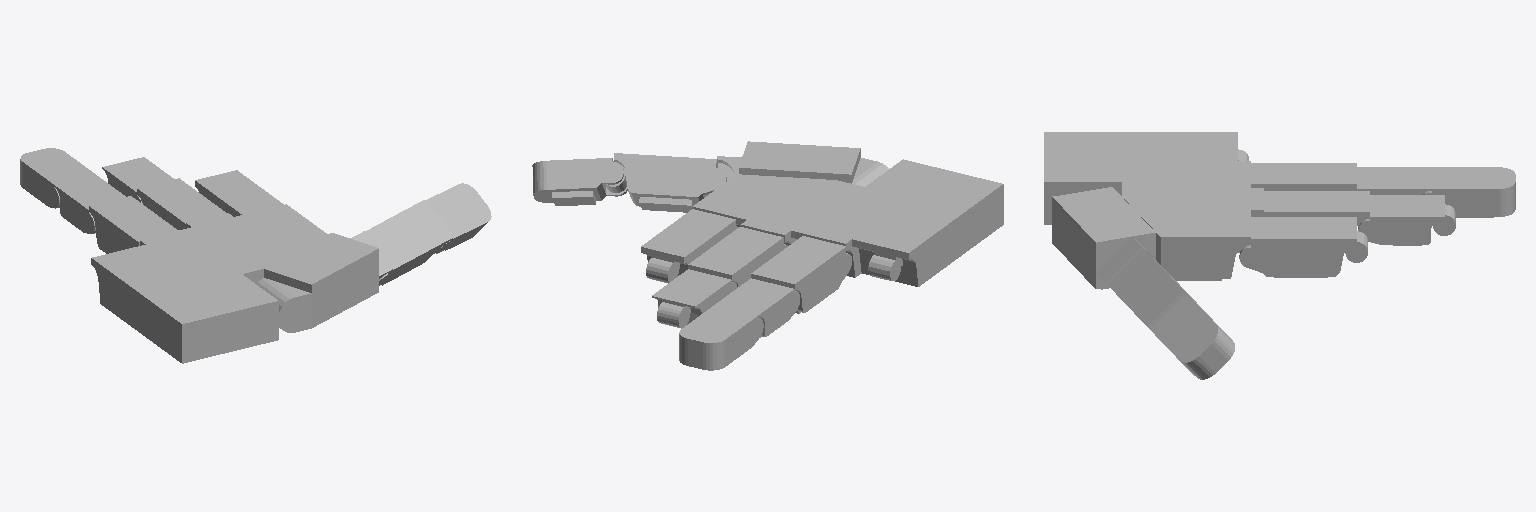
robot.urdf — f_tac_hand:
<?xml version="1.0"?>
<!-- This URDF was automatically created by SolidWorks to URDF Exporter! Originally created by
[author] ([email redacted])
     Commit Version: 1.6.0-1-g15f4949  Build Version: 1.6.7594.29634
     For more information, please see http://wiki.ros.org/sw_urdf_exporter -->
<robot
  name="f_tac_hand">
  <link name="base_link">
    <inertial>
      <origin
        xyz="0 0 0"
        rpy="0 0 0" />
      <mass
        value="0.10701" />
      <inertia
        ixx="4.0664E-05"
        ixy="6.4038E-08"
        ixz="1.9177E-06"
        iyy="5.6479E-05"
        iyz="7.7345E-07"
        izz="2.2587E-05" />
    </inertial>
    <visual>
      <origin
        xyz="0 0 0"
        rpy="0 0 0" />
      <geometry>
        <mesh
          filename="../meshes/base_link.obj" />
      </geometry>
      <material
        name="">
        <color
          rgba="0.75294 0.75294 0.75294 1" />
      </material>
    </visual>
    <collision>
      <origin
        xyz="0 0 0"
        rpy="0 0 0" />
      <geometry>
        <mesh
          filename="../meshes/base_link.obj" />
      </geometry>
    </collision>
  </link>
  <link
    name="thumb_1">
    <inertial>
      <origin
        xyz="0.0213809512788237 0.00830288099446848 -0.0368934211825852"
        rpy="0 0 0" />
      <mass
        value="0.0302068698189258" />
      <inertia
        ixx="4.47273437130782E-06"
        ixy="-2.41343638990869E-06"
        ixz="-2.18553315619696E-06"
        iyy="9.08198924826877E-06"
        iyz="-9.32985999670422E-07"
        izz="8.77443016411273E-06" />
    </inertial>
    <visual>
      <origin
        xyz="0 0 0"
        rpy="0 0 0" />
      <geometry>
        <mesh
          filename="../meshes/thumb_1.obj" />
      </geometry>
      <material
        name="">
        <color
          rgba="0.752941176470588 0.752941176470588 0.752941176470588 1" />
      </material>
    </visual>
    <collision>
      <origin
        xyz="0 0 0"
        rpy="0 0 0" />
      <geometry>
        <mesh
          filename="../meshes/thumb_1.obj" />
      </geometry>
    </collision>
  </link>
  <joint
    name="thumb_1"
    type="revolute">
    <origin
      xyz="0.0096545 -0.041173 0.026086"
      rpy="-1.5708 -0.41641 0" />
    <parent
      link="base_link" />
    <child
      link="thumb_1" />
    <axis
      xyz="0 0 1" />
    <limit
      lower="0"
      upper="1.57"
      effort="0"
      velocity="0" />
  </joint>
  <link
    name="thumb_2">
    <inertial>
      <origin
        xyz="0.0206182940275113 -0.0003046673401641 2.53574938824386E-13"
        rpy="0 0 0" />
      <mass
        value="0.012221479074921" />
      <inertia
        ixx="6.83102068665418E-07"
        ixy="-2.316217085618E-08"
        ixz="-3.53904923741628E-18"
        iyy="1.86039399915805E-06"
        iyz="1.24884420160806E-19"
        izz="1.76124570189393E-06" />
    </inertial>
    <visual>
      <origin
        xyz="0 0 0"
        rpy="0 0 0" />
      <geometry>
        <mesh
          filename="../meshes/thumb_2.obj" />
      </geometry>
      <material
        name="">
        <color
          rgba="0.752941176470588 0.752941176470588 0.752941176470588 1" />
      </material>
    </visual>
    <collision>
      <origin
        xyz="0 0 0"
        rpy="0 0 0" />
      <geometry>
        <mesh
          filename="../meshes/thumb_2.obj" />
      </geometry>
    </collision>
  </link>
  <joint
    name="thumb_2"
    type="revolute">
    <origin
      xyz="0.049122 0.023171 -0.023451"
      rpy="-2.4435 -0.3802 0.41641" />
    <parent
      link="thumb_1" />
    <child
      link="thumb_2" />
    <axis
      xyz="0 0 1" />
    <limit
      lower="-1.57"
      upper="0"
      effort="0"
      velocity="0" />
  </joint>
  <link
    name="thumb_3">
    <inertial>
      <origin
        xyz="0.0167824598987307 -0.00212872883309434 -3.08122971581781E-12"
        rpy="0 0 0" />
      <mass
        value="0.00745939900562187" />
      <inertia
        ixx="3.59429707528274E-07"
        ixy="6.07313946647049E-08"
        ixz="-8.23541017857794E-19"
        iyy="7.77158182113299E-07"
        iyz="4.5003919278805E-19"
        izz="6.51428092547374E-07" />
    </inertial>
    <visual>
      <origin
        xyz="0 0 0"
        rpy="0 0 0" />
      <geometry>
        <mesh
          filename="../meshes/thumb_3.obj" />
      </geometry>
      <material
        name="">
        <color
          rgba="0.752941176470588 0.752941176470588 0.752941176470588 1" />
      </material>
    </visual>
    <collision>
      <origin
        xyz="0 0 0"
        rpy="0 0 0" />
      <geometry>
        <mesh
          filename="../meshes/thumb_3.obj" />
      </geometry>
    </collision>
  </link>
  <joint
    name="thumb_3"
    type="revolute">
    <origin
      xyz="0.041 -0.00032615 0"
      rpy="0 0 0" />
    <parent
      link="thumb_2" />
    <child
      link="thumb_3" />
    <axis
      xyz="0 0 1" />
    <limit
      lower="-1.57"
      upper="0"
      effort="0"
      velocity="0" />
  </joint>
  <link
    name="index_1">
    <inertial>
      <origin
        xyz="0.0206182940275193 -2.14858231646839E-05 6.93889390390723E-18"
        rpy="0 0 0" />
      <mass
        value="0.012221479074921" />
      <inertia
        ixx="6.83102068665422E-07"
        ixy="2.31621708562653E-08"
        ixz="5.89026078332172E-23"
        iyy="1.86039399915805E-06"
        iyz="-1.31399405920735E-22"
        izz="1.76124570189393E-06" />
    </inertial>
    <visual>
      <origin
        xyz="0 0 0"
        rpy="0 0 0" />
      <geometry>
        <mesh
          filename="../meshes/index_1.obj" />
      </geometry>
      <material
        name="">
        <color
          rgba="0.752941176470588 0.752941176470588 0.752941176470588 1" />
      </material>
    </visual>
    <collision>
      <origin
        xyz="0 0 0"
        rpy="0 0 0" />
      <geometry>
        <mesh
          filename="../meshes/index_1.obj" />
      </geometry>
    </collision>
  </link>
  <joint
    name="index_1"
    type="revolute">
    <origin
      xyz="0.040154 -0.020691 0.027086"
      rpy="-1.5708 0 1.5708" />
    <parent
      link="base_link" />
    <child
      link="index_1" />
    <axis
      xyz="0 0 1" />
    <limit
      lower="0"
      upper="1.57"
      effort="0"
      velocity="0" />
  </joint>
  <link
    name="index_2">
    <inertial>
      <origin
        xyz="0.0152317229490134 3.42802053373108E-05 0"
        rpy="0 0 0" />
      <mass
        value="0.00625308632851355" />
      <inertia
        ixx="2.81797994660092E-07"
        ixy="2.23703220497108E-09"
        ixz="-1.43213634689837E-23"
        iyy="5.81864464611056E-07"
        iyz="-4.13998996125335E-23"
        izz="4.7329114501704E-07" />
    </inertial>
    <visual>
      <origin
        xyz="0 0 0"
        rpy="0 0 0" />
      <geometry>
        <mesh
          filename="../meshes/index_2.obj" />
      </geometry>
      <material
        name="">
        <color
          rgba="0.752941176470588 0.752941176470588 0.752941176470588 1" />
      </material>
    </visual>
    <collision>
      <origin
        xyz="0 0 0"
        rpy="0 0 0" />
      <geometry>
        <mesh
          filename="../meshes/index_2.obj" />
      </geometry>
    </collision>
  </link>
  <joint
    name="index_2"
    type="revolute">
    <origin
      xyz="0.041 0 0"
      rpy="0 0 0" />
    <parent
      link="index_1" />
    <child
      link="index_2" />
    <axis
      xyz="0 0 1" />
    <limit
      lower="0"
      upper="1.57"
      effort="0"
      velocity="0" />
  </joint>
  <link
    name="index_3">
    <inertial>
      <origin
        xyz="0.0168154407410035 0.000297686675871593 -6.93889390390723E-18"
        rpy="0 0 0" />
      <mass
        value="0.00745163347840583" />
      <inertia
        ixx="3.50729758374185E-07"
        ixy="-1.14358363153878E-08"
        ixz="-6.19619715471633E-23"
        iyy="7.93589625506845E-07"
        iyz="-7.39793916223962E-23"
        izz="6.56515010736982E-07" />
    </inertial>
    <visual>
      <origin
        xyz="0 0 0"
        rpy="0 0 0" />
      <geometry>
        <mesh
          filename="../meshes/index_3.obj" />
      </geometry>
      <material
        name="">
        <color
          rgba="0.752941176470588 0.752941176470588 0.752941176470588 1" />
      </material>
    </visual>
    <collision>
      <origin
        xyz="0 0 0"
        rpy="0 0 0" />
      <geometry>
        <mesh
          filename="../meshes/index_3.obj" />
      </geometry>
    </collision>
  </link>
  <joint
    name="index_3"
    type="revolute">
    <origin
      xyz="0.029 0 0"
      rpy="0 0 0" />
    <parent
      link="index_2" />
    <child
      link="index_3" />
    <axis
      xyz="0 0 1" />
    <limit
      lower="0"
      upper="1.57"
      effort="0"
      velocity="0" />
  </joint>
  <link
    name="middle_1">
    <inertial>
      <origin
        xyz="0.0206182940275192 -2.14858231645659E-05 -0.000400000000000006"
        rpy="0 0 0" />
      <mass
        value="0.012221479074921" />
      <inertia
        ixx="6.83102068665421E-07"
        ixy="2.31621708562653E-08"
        ixz="5.44029401262022E-23"
        iyy="1.86039399915804E-06"
        iyz="-3.06838458417649E-23"
        izz="1.76124570189393E-06" />
    </inertial>
    <visual>
      <origin
        xyz="0 0 0"
        rpy="0 0 0" />
      <geometry>
        <mesh
          filename="../meshes/middle_1.obj" />
      </geometry>
      <material
        name="">
        <color
          rgba="0.752941176470588 0.752941176470588 0.752941176470588 1" />
      </material>
    </visual>
    <collision>
      <origin
        xyz="0 0 0"
        rpy="0 0 0" />
      <geometry>
        <mesh
          filename="../meshes/middle_1.obj" />
      </geometry>
    </collision>
  </link>
  <joint
    name="middle_1"
    type="revolute">
    <origin
      xyz="0.015154 -0.015691 0.027086"
      rpy="-1.5708 0 1.5708" />
    <parent
      link="base_link" />
    <child
      link="middle_1" />
    <axis
      xyz="0 0 1" />
    <limit
      lower="0"
      upper="1.57"
      effort="0"
      velocity="0" />
  </joint>
  <link
    name="middle_2">
    <inertial>
      <origin
        xyz="0.0152317229490134 3.42802053372969E-05 1.73472347597681E-18"
        rpy="0 0 0" />
      <mass
        value="0.00625308632851354" />
      <inertia
        ixx="2.81797994660092E-07"
        ixy="2.23703220497124E-09"
        ixz="9.59697541416519E-23"
        iyy="5.81864464611055E-07"
        iyz="3.72987495237399E-24"
        izz="4.73291145017039E-07" />
    </inertial>
    <visual>
      <origin
        xyz="0 0 0"
        rpy="0 0 0" />
      <geometry>
        <mesh
          filename="../meshes/middle_2.obj" />
      </geometry>
      <material
        name="">
        <color
          rgba="0.752941176470588 0.752941176470588 0.752941176470588 1" />
      </material>
    </visual>
    <collision>
      <origin
        xyz="0 0 0"
        rpy="0 0 0" />
      <geometry>
        <mesh
          filename="../meshes/middle_2.obj" />
      </geometry>
    </collision>
  </link>
  <joint
    name="middle_2"
    type="revolute">
    <origin
      xyz="0.041 0 -0.0004"
      rpy="0 0 0" />
    <parent
      link="middle_1" />
    <child
      link="middle_2" />
    <axis
      xyz="0 0 1" />
    <limit
      lower="0"
      upper="1.57"
      effort="0"
      velocity="0" />
  </joint>
  <link
    name="middle_3">
    <inertial>
      <origin
        xyz="0.0168154407410034 0.0002976866758716 3.46944695195361E-18"
        rpy="0 0 0" />
      <mass
        value="0.00745163347840582" />
      <inertia
        ixx="3.50729758374184E-07"
        ixy="-1.14358363153877E-08"
        ixz="-2.28818091485651E-23"
        iyy="7.93589625506844E-07"
        iyz="-9.29509723535121E-24"
        izz="6.5651501073698E-07" />
    </inertial>
    <visual>
      <origin
        xyz="0 0 0"
        rpy="0 0 0" />
      <geometry>
        <mesh
          filename="../meshes/middle_3.obj" />
      </geometry>
      <material
        name="">
        <color
          rgba="0.752941176470588 0.752941176470588 0.752941176470588 1" />
      </material>
    </visual>
    <collision>
      <origin
        xyz="0 0 0"
        rpy="0 0 0" />
      <geometry>
        <mesh
          filename="../meshes/middle_3.obj" />
      </geometry>
    </collision>
  </link>
  <joint
    name="middle_3"
    type="revolute">
    <origin
      xyz="0.029 0 0"
      rpy="0 0 0" />
    <parent
      link="middle_2" />
    <child
      link="middle_3" />
    <axis
      xyz="0 0 1" />
    <limit
      lower="0"
      upper="1.57"
      effort="0"
      velocity="0" />
  </joint>
  <link
    name="ring_1">
    <inertial>
      <origin
        xyz="0.0206182940275192 -2.14858231647221E-05 0.000399999999999991"
        rpy="0 0 0" />
      <mass
        value="0.012221479074921" />
      <inertia
        ixx="6.83102068665422E-07"
        ixy="2.31621708562655E-08"
        ixz="-3.31833779725001E-23"
        iyy="1.86039399915805E-06"
        iyz="-8.58840580412324E-23"
        izz="1.76124570189393E-06" />
    </inertial>
    <visual>
      <origin
        xyz="0 0 0"
        rpy="0 0 0" />
      <geometry>
        <mesh
          filename="../meshes/ring_1.obj" />
      </geometry>
      <material
        name="">
        <color
          rgba="0.752941176470588 0.752941176470588 0.752941176470588 1" />
      </material>
    </visual>
    <collision>
      <origin
        xyz="0 0 0"
        rpy="0 0 0" />
      <geometry>
        <mesh
          filename="../meshes/ring_1.obj" />
      </geometry>
    </collision>
  </link>
  <joint
    name="ring_1"
    type="revolute">
    <origin
      xyz="-0.0098455 -0.020691 0.027086"
      rpy="-1.5708 0 1.5708" />
    <parent
      link="base_link" />
    <child
      link="ring_1" />
    <axis
      xyz="0 0 1" />
    <limit
      lower="0"
      upper="1.57"
      effort="0"
      velocity="0" />
  </joint>
  <link
    name="ring_2">
    <inertial>
      <origin
        xyz="0.0152317229490134 3.42802053373038E-05 -1.73472347597681E-18"
        rpy="0 0 0" />
      <mass
        value="0.00625308632851355" />
      <inertia
        ixx="2.81797994660092E-07"
        ixy="2.2370322049711E-09"
        ixz="-2.08495449111798E-23"
        iyy="5.81864464611055E-07"
        iyz="-2.33824894866571E-23"
        izz="4.7329114501704E-07" />
    </inertial>
    <visual>
      <origin
        xyz="0 0 0"
        rpy="0 0 0" />
      <geometry>
        <mesh
          filename="../meshes/ring_2.obj" />
      </geometry>
      <material
        name="">
        <color
          rgba="0.752941176470588 0.752941176470588 0.752941176470588 1" />
      </material>
    </visual>
    <collision>
      <origin
        xyz="0 0 0"
        rpy="0 0 0" />
      <geometry>
        <mesh
          filename="../meshes/ring_2.obj" />
      </geometry>
    </collision>
  </link>
  <joint
    name="ring_2"
    type="revolute">
    <origin
      xyz="0.041 0 0.0004"
      rpy="0 0 0" />
    <parent
      link="ring_1" />
    <child
      link="ring_2" />
    <axis
      xyz="0 0 1" />
    <limit
      lower="0"
      upper="1.57"
      effort="0"
      velocity="0" />
  </joint>
  <link
    name="ring_3">
    <inertial>
      <origin
        xyz="0.0168154407410034 0.000297686675871593 0"
        rpy="0 0 0" />
      <mass
        value="0.00745163347840583" />
      <inertia
        ixx="3.50729758374185E-07"
        ixy="-1.14358363153878E-08"
        ixz="-5.172522775928E-23"
        iyy="7.93589625506845E-07"
        iyz="-7.30600138204954E-23"
        izz="6.56515010736981E-07" />
    </inertial>
    <visual>
      <origin
        xyz="0 0 0"
        rpy="0 0 0" />
      <geometry>
        <mesh
          filename="../meshes/ring_3.obj" />
      </geometry>
      <material
        name="">
        <color
          rgba="0.752941176470588 0.752941176470588 0.752941176470588 1" />
      </material>
    </visual>
    <collision>
      <origin
        xyz="0 0 0"
        rpy="0 0 0" />
      <geometry>
        <mesh
          filename="../meshes/ring_3.obj" />
      </geometry>
    </collision>
  </link>
  <joint
    name="ring_3"
    type="revolute">
    <origin
      xyz="0.029 0 0"
      rpy="0 0 0" />
    <parent
      link="ring_2" />
    <child
      link="ring_3" />
    <axis
      xyz="0 0 1" />
    <limit
      lower="0"
      upper="1.57"
      effort="0"
      velocity="0" />
  </joint>
  <link
    name="little_1">
    <inertial>
      <origin
        xyz="0 0 0"
        rpy="0 0 0" />
      <mass
        value="0" />
      <inertia
        ixx="0"
        ixy="0"
        ixz="0"
        iyy="0"
        iyz="0"
        izz="0" />
    </inertial>
    <visual>
      <origin
        xyz="0 0 0"
        rpy="0 0 0" />
      <geometry>
        <mesh
          filename="../meshes/little_1.obj" />
      </geometry>
      <material
        name="">
        <color
          rgba="1 1 1 1" />
      </material>
    </visual>
    <collision>
      <origin
        xyz="0 0 0"
        rpy="0 0 0" />
      <geometry>
        <mesh
          filename="../meshes/little_1.obj" />
      </geometry>
    </collision>
  </link>
  <joint
    name="little_1"
    type="revolute">
    <origin
      xyz="-0.034846 -0.025691 0.027086"
      rpy="-1.5708 0 1.5708" />
    <parent
      link="base_link" />
    <child
      link="little_1" />
    <axis
      xyz="0 0 1" />
    <limit
      lower="0"
      upper="1.57"
      effort="0"
      velocity="0" />
  </joint>
  <link
    name="little_2">
    <inertial>
      <origin
        xyz="0.0152317229490134 3.42802053373004E-05 -6.93889390390723E-18"
        rpy="0 0 0" />
      <mass
        value="0.00625308632851354" />
      <inertia
        ixx="2.81797994660092E-07"
        ixy="2.23703220497117E-09"
        ixz="7.83072407490035E-24"
        iyy="5.81864464611055E-07"
        iyz="-8.43175147128047E-25"
        izz="4.73291145017039E-07" />
    </inertial>
    <visual>
      <origin
        xyz="0 0 0"
        rpy="0 0 0" />
      <geometry>
        <mesh
          filename="../meshes/little_2.obj" />
      </geometry>
      <material
        name="">
        <color
          rgba="0.752941176470588 0.752941176470588 0.752941176470588 1" />
      </material>
    </visual>
    <collision>
      <origin
        xyz="0 0 0"
        rpy="0 0 0" />
      <geometry>
        <mesh
          filename="../meshes/little_2.obj" />
      </geometry>
    </collision>
  </link>
  <joint
    name="little_2"
    type="revolute">
    <origin
      xyz="0.041 0 0.0004"
      rpy="0 0 0" />
    <parent
      link="little_1" />
    <child
      link="little_2" />
    <axis
      xyz="0 0 1" />
    <limit
      lower="0"
      upper="1.57"
      effort="0"
      velocity="0" />
  </joint>
  <link
    name="little_3">
    <inertial>
      <origin
        xyz="0.0168154407410034 0.000297686675871597 6.93889390390723E-18"
        rpy="0 0 0" />
      <mass
        value="0.00745163347840582" />
      <inertia
        ixx="3.50729758374184E-07"
        ixy="-1.14358363153877E-08"
        ixz="5.72914976887502E-23"
        iyy="7.93589625506844E-07"
        iyz="3.10355823717583E-24"
        izz="6.56515010736981E-07" />
    </inertial>
    <visual>
      <origin
        xyz="0 0 0"
        rpy="0 0 0" />
      <geometry>
        <mesh
          filename="../meshes/little_3.obj" />
      </geometry>
      <material
        name="">
        <color
          rgba="0.752941176470588 0.752941176470588 0.752941176470588 1" />
      </material>
    </visual>
    <collision>
      <origin
        xyz="0 0 0"
        rpy="0 0 0" />
      <geometry>
        <mesh
          filename="../meshes/little_3.obj" />
      </geometry>
    </collision>
  </link>
  <joint
    name="little_3"
    type="revolute">
    <origin
      xyz="0.029 0 0"
      rpy="0 0 0" />
    <parent
      link="little_2" />
    <child
      link="little_3" />
    <axis
      xyz="0 0 1" />
    <limit
      lower="0"
      upper="1.57"
      effort="0"
      velocity="0" />
  </joint>
</robot>

--- Render facts (derived) ---
Views: 3 orthographic renders of the robot side by side, from view 1: azimuth 30°, elevation 25°; view 2: azimuth 150°, elevation 25°; view 3: azimuth 270°, elevation 25°.
Model f_tac_hand with 16 links and 15 joints (15 revolute), rooted at base_link, posed all joints at 0.
Links seen in each view (by area): view 1: base_link, thumb_1, thumb_2, ring_1, ring_3, middle_1, thumb_3, index_1, ring_2, middle_2; view 2: base_link, thumb_2, thumb_1, ring_1, ring_3, index_1, thumb_3, middle_1, middle_2, ring_2; view 3: base_link, thumb_1, index_1, middle_2, thumb_3, ring_3, thumb_2, ring_1, middle_1, ring_2.
Link boxes in pixels (x1,y1,x2,y2): base_link: (91, 204, 327, 363); thumb_1: (256, 231, 393, 332); thumb_2: (366, 200, 453, 285); ring_1: (89, 196, 178, 253); ring_3: (20, 148, 95, 208); middle_1: (137, 178, 225, 229); thumb_3: (426, 183, 491, 253); index_1: (195, 170, 283, 216); ring_2: (54, 175, 125, 233); middle_2: (102, 157, 173, 203); base_link: (693, 159, 1003, 286); thumb_2: (605, 153, 726, 212); thumb_1: (708, 141, 888, 194); ring_1: (751, 236, 851, 313); ring_3: (679, 305, 763, 370); index_1: (641, 209, 738, 283); thumb_3: (532, 158, 627, 205); middle_1: (688, 227, 787, 286); middle_2: (652, 269, 737, 328); ring_2: (715, 278, 799, 337); base_link: (1044, 132, 1263, 280); thumb_1: (1052, 187, 1156, 289); index_1: (1239, 217, 1367, 277); middle_2: (1358, 195, 1455, 245); thumb_3: (1151, 294, 1234, 379); ring_3: (1422, 167, 1515, 217); thumb_2: (1108, 249, 1196, 329); ring_1: (1251, 163, 1356, 190); middle_1: (1264, 191, 1369, 226); ring_2: (1357, 167, 1431, 194).
Bounding box of the posed robot: 0.1802 × 0.1825 × 0.0267 m (x, y, z).
Meshes: 16 distinct files referenced, 10 mesh visuals loaded (10 OBJ); not drawn: 6 (reference not matched to a file when rendering).